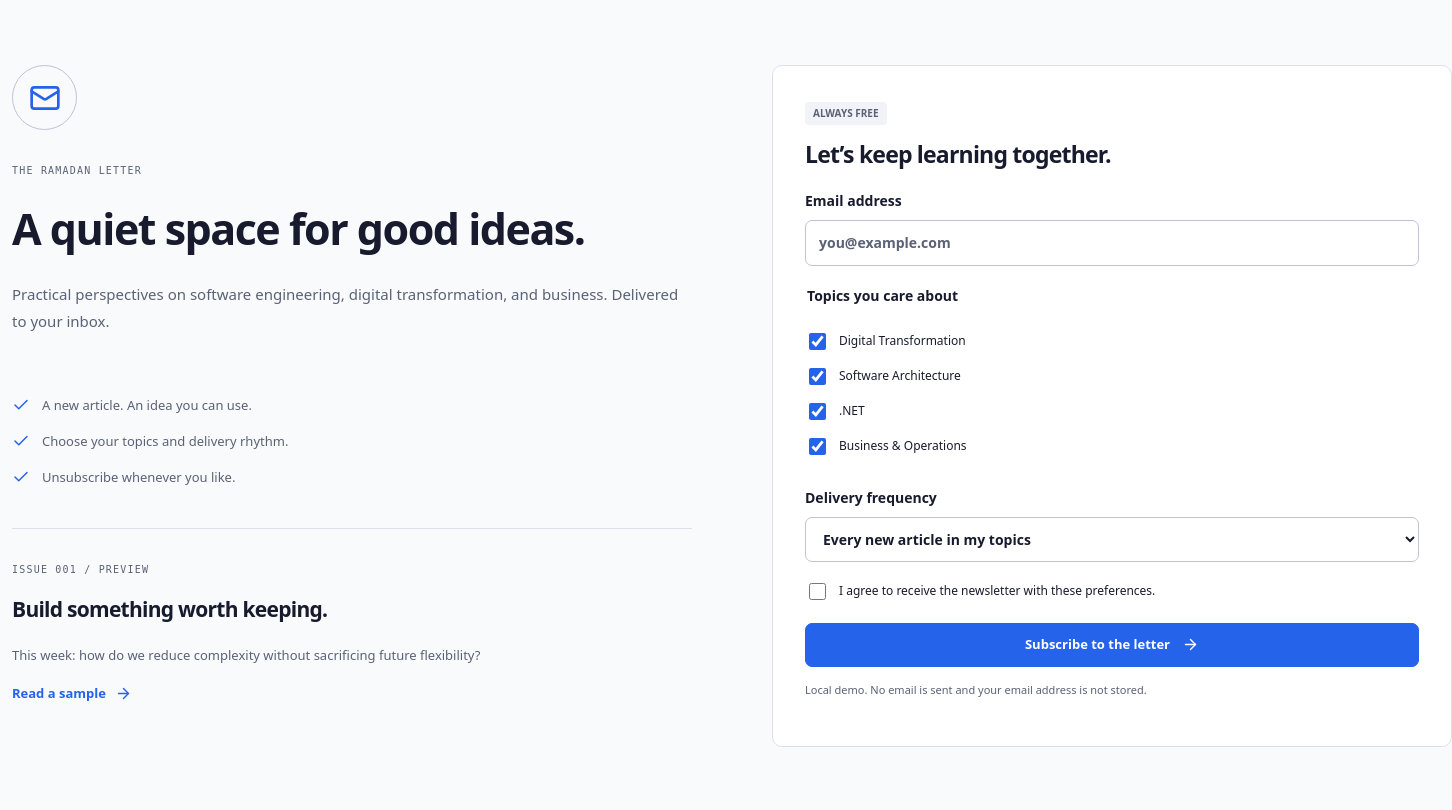
Test: reader interactions › requires subscription confirmation and does not persist the email
The image size is (1452, 810).
Type "demo@example.com" into the field labelled "Email address" at (1112, 243), box [805,220,1419,266]
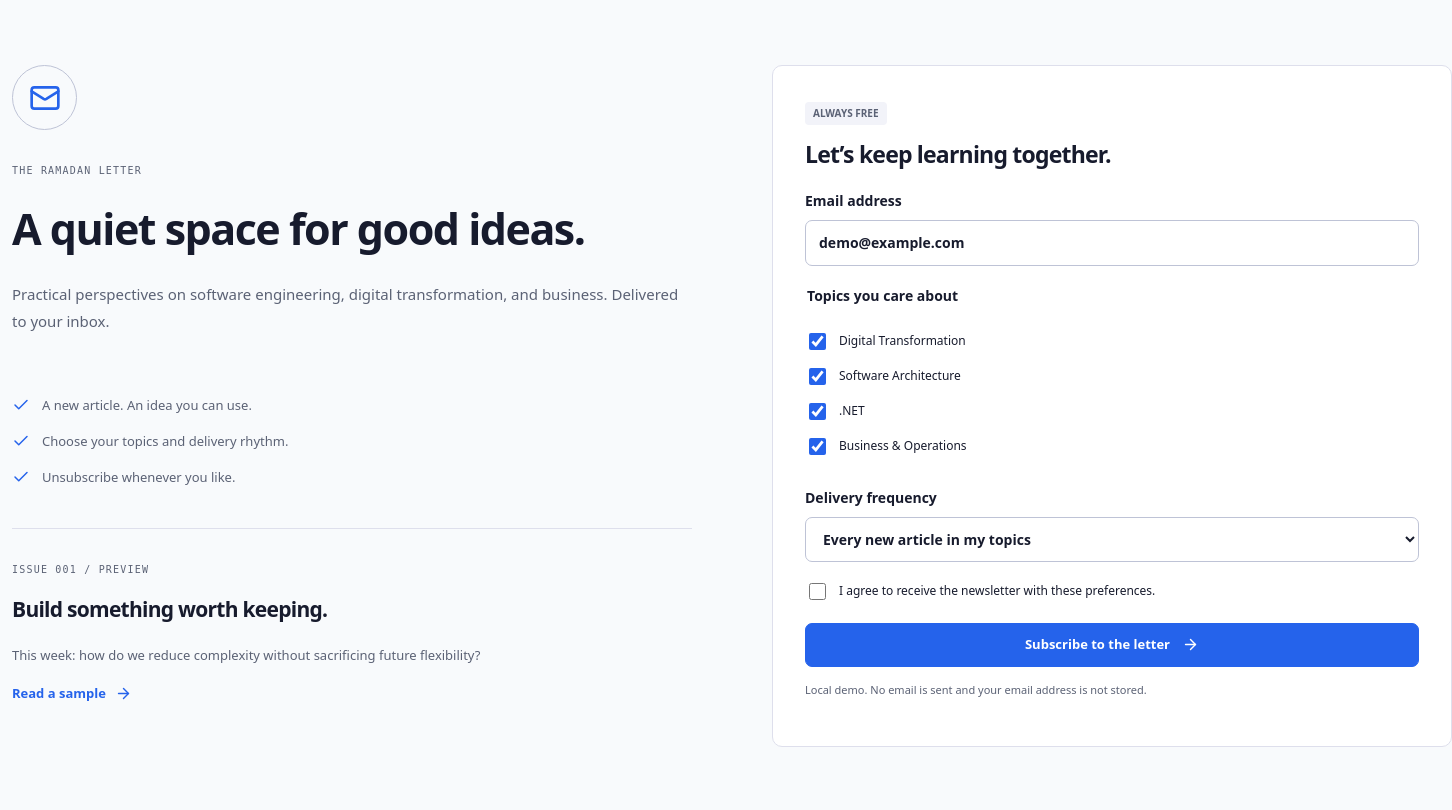
Click the checkbox labelled "I agree to receive the newsletter with these preferences." at (818, 591), box [809,583,826,600]
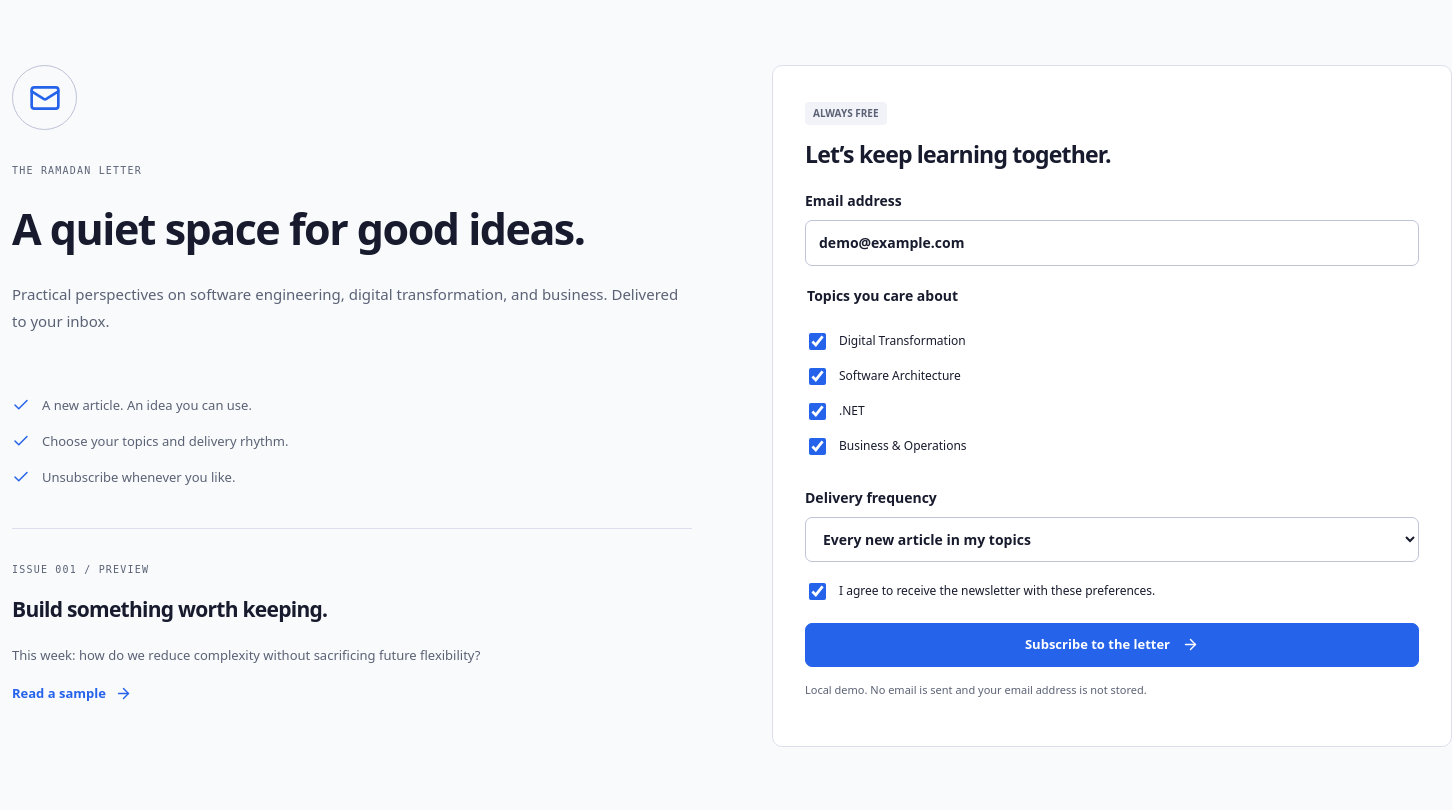
Submit the form named "Subscribe to the letter", box [805,189,1419,700]
(page scrolled)
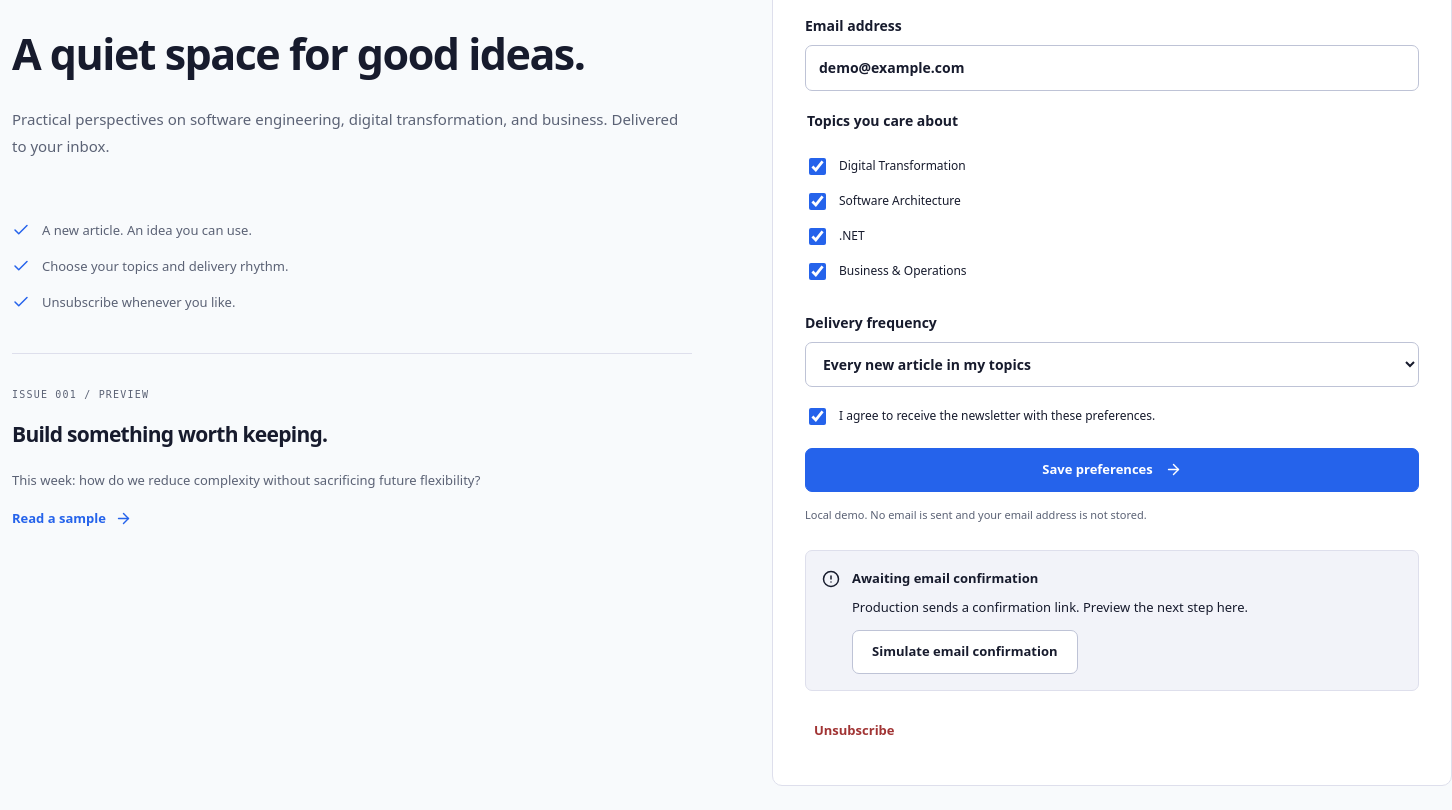
Now the text "Awaiting email confirmation" is shown, box [852,569,1038,587]
Click the button "Simulate email confirmation" at (965, 652), box [852,630,1078,674]
(page scrolled)
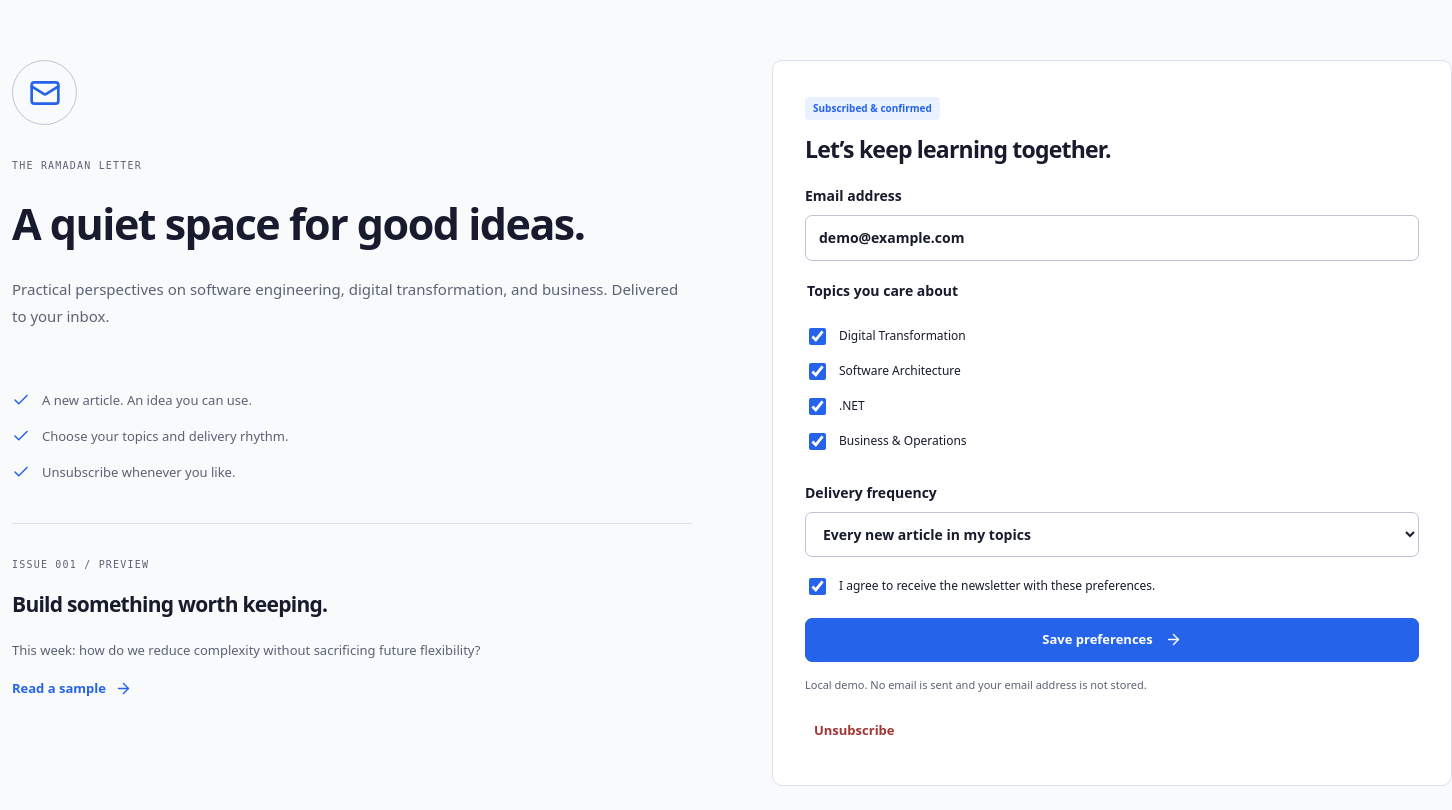
Now the text "Subscribed & confirmed" is shown, box [805,97,940,120]
